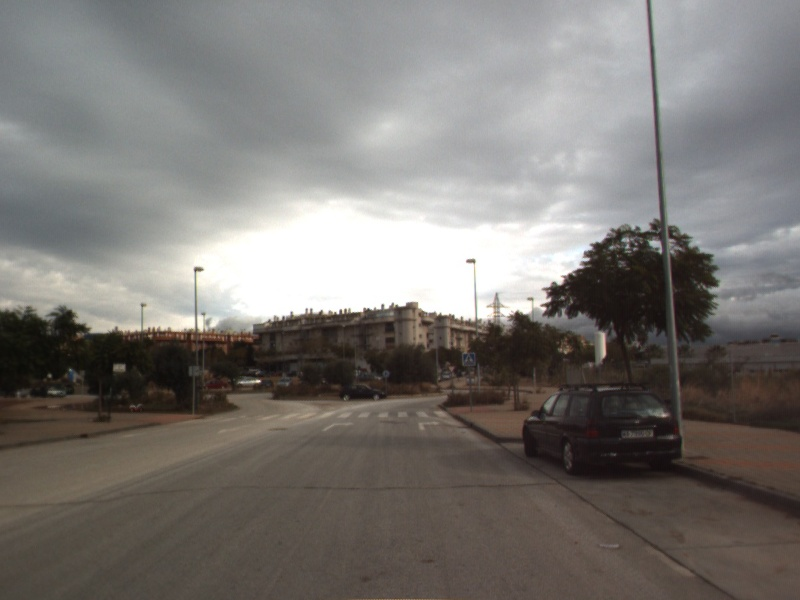RIGHT: (320, 419, 356, 433), (416, 418, 442, 432)
